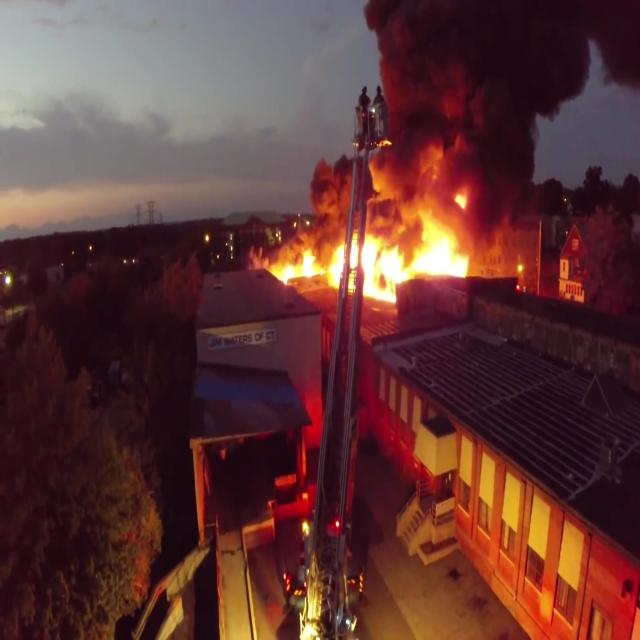Fire: (273, 197, 525, 286)
Smoke: (268, 0, 640, 260)
